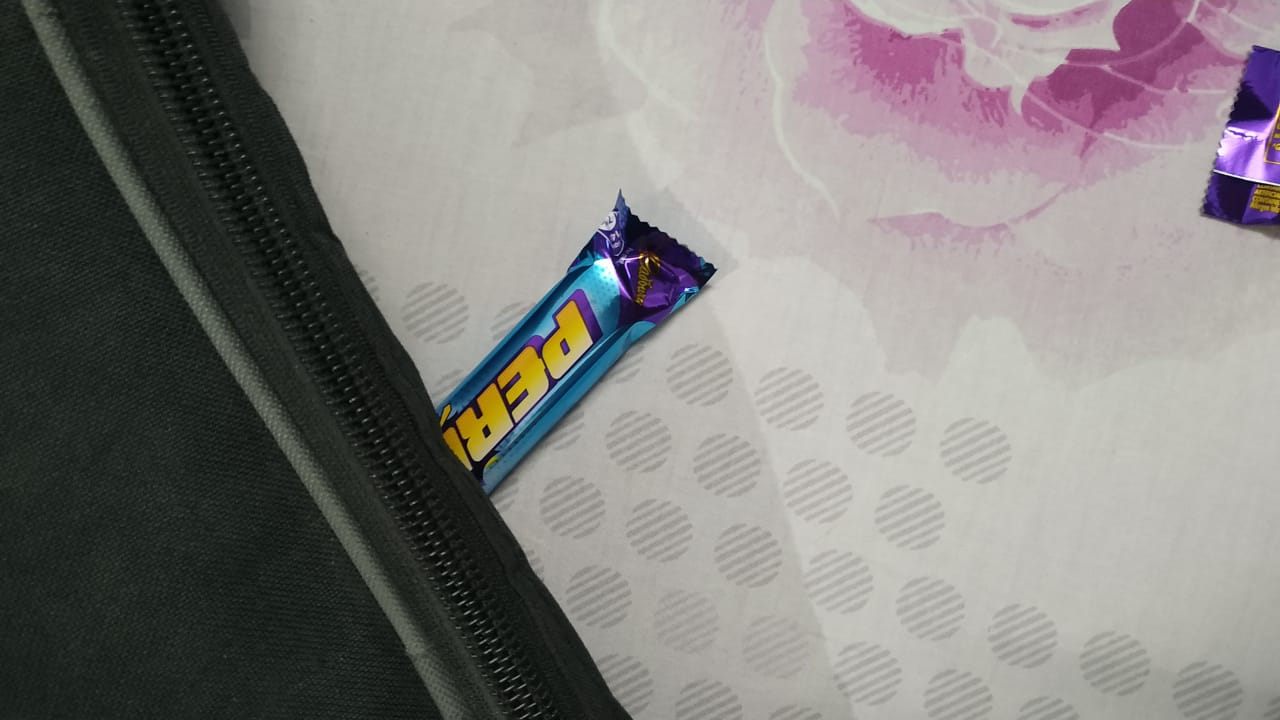perk: (415, 176, 727, 502)
